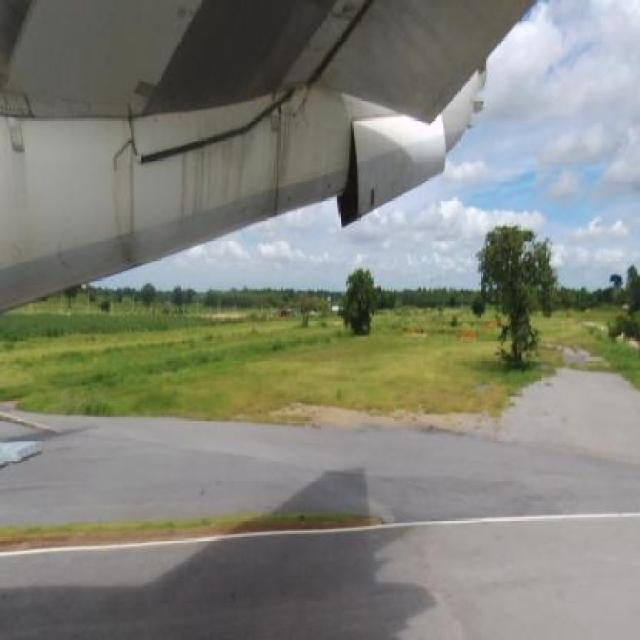Missing-Rivet: (0, 85, 42, 118)
Rust: (174, 118, 264, 247), (104, 120, 150, 280), (268, 86, 304, 222), (49, 227, 85, 291)
